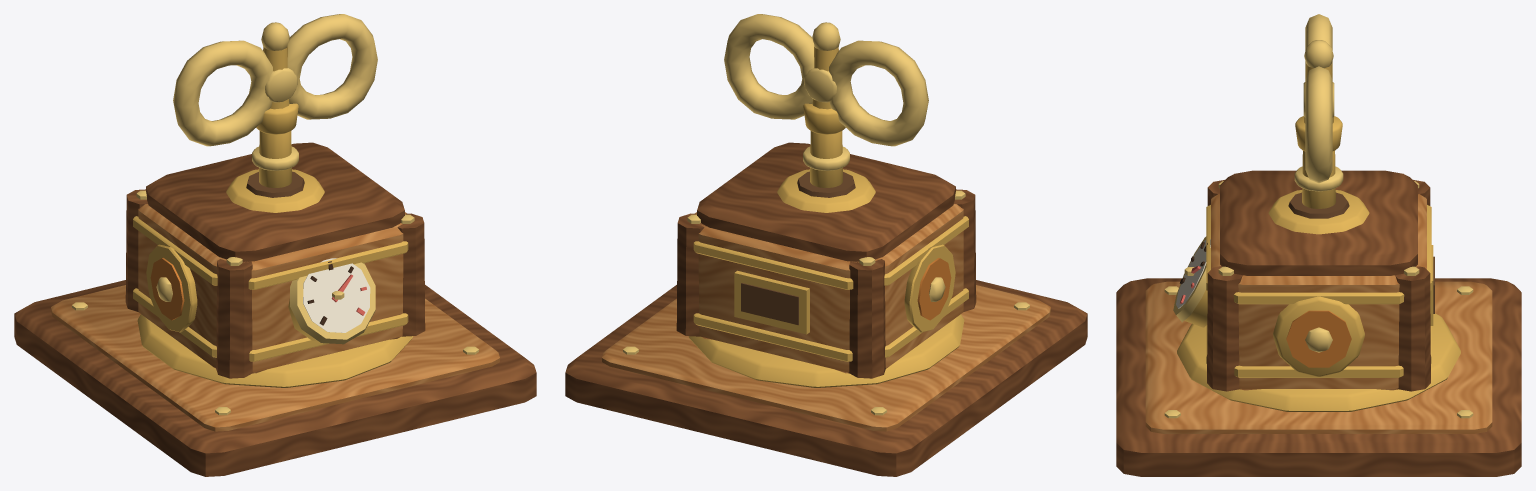
File: generateur.glb
3 views of the same model, side by side, from view 1: azimuth 30°, elevation 25°; view 2: azimuth 150°, elevation 25°; view 3: azimuth 270°, elevation 25° (orthographic). The views are drawn at different scales.
Visible parts, largest first — view 1: Generateur_Corps, Cle_Remontoir; view 2: Generateur_Corps, Cle_Remontoir; view 3: Generateur_Corps, Cle_Remontoir.
Part boxes in pixels (x1,y1,x2,y2): Generateur_Corps: (14, 142, 536, 476); Cle_Remontoir: (173, 14, 377, 187); Generateur_Corps: (565, 142, 1087, 476); Cle_Remontoir: (724, 14, 928, 187); Generateur_Corps: (1116, 170, 1521, 476); Cle_Remontoir: (1294, 14, 1343, 208).
Bounding box in the file's own units: 1.8 × 1.72 × 1.8.
9 materials, 2 textured.
